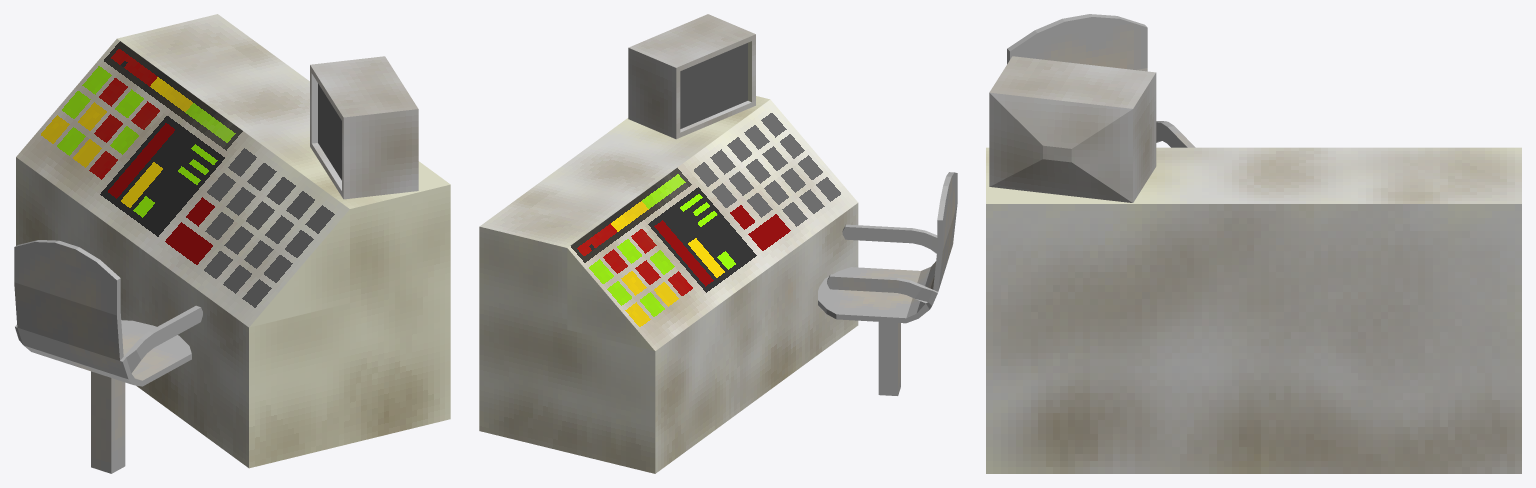
File: Generic Machine #1.gltf
The picture shows the model from 3 angles, left to right: view 1: azimuth 30°, elevation 25°; view 2: azimuth 150°, elevation 25°; view 3: azimuth 270°, elevation 25°; orthographic projection. The views are drawn at different scales.
Parts seen in each view (by area): view 1: cuboid (×2); view 2: cuboid (×2); view 3: cuboid (×2).
Boxes of the visible parts, x1,y1,x2,y2 form: cuboid (×2): (14, 14, 450, 473); cuboid (×2): (479, 14, 957, 473); cuboid (×2): (986, 14, 1521, 473).
Size of the model in its own units: 2.05 by 1.77 by 2.25.
Materials: 2 (2 with a texture image).
